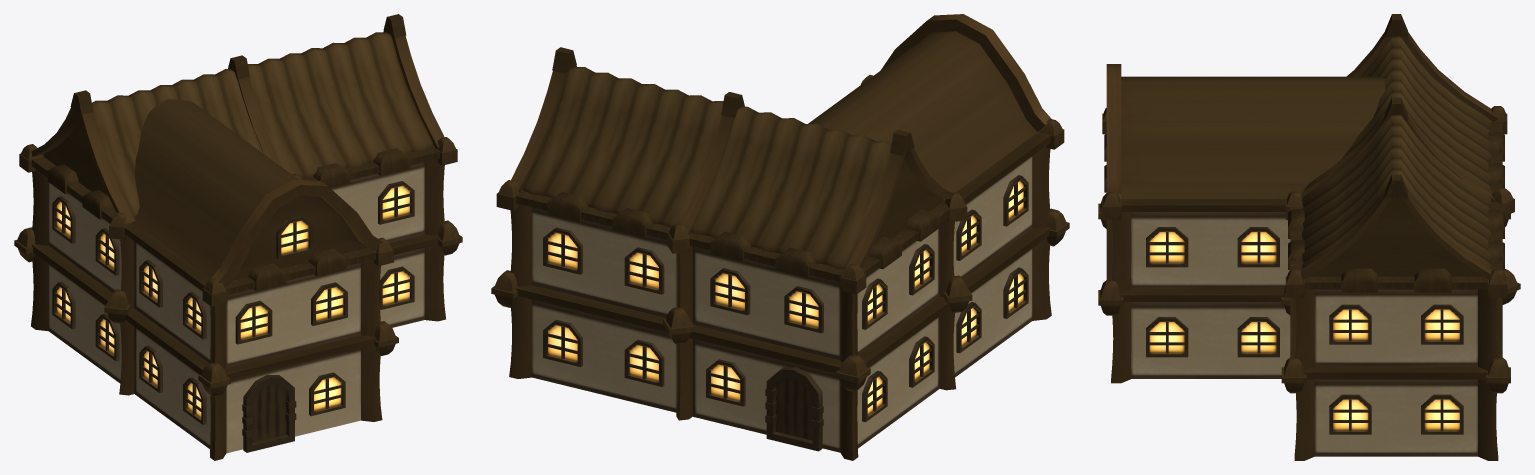
The model's file is house5.glb.
3 renders of one model, left to right at view 1: azimuth 30°, elevation 25°; view 2: azimuth 150°, elevation 25°; view 3: azimuth 270°, elevation 25°, orthographic. The views are drawn at different scales.
Visible parts, largest first — view 1: Loja_Media_0; view 2: Loja_Media_0; view 3: Loja_Media_0.
Boxes of the visible parts, x1,y1,x2,y2 form: Loja_Media_0: [14, 14, 462, 460]; Loja_Media_0: [491, 14, 1069, 460]; Loja_Media_0: [1098, 14, 1520, 460].
Size of the model in its own units: 18.42 by 13.61 by 18.42.
Materials: 1 (1 with a texture image).
